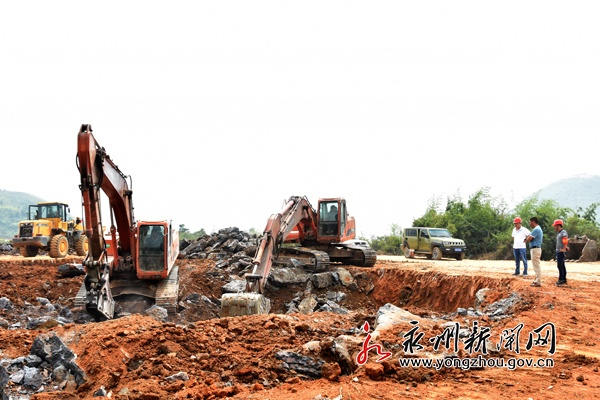none: (528, 216, 539, 228)
red: (552, 219, 564, 232), (512, 215, 522, 229)
